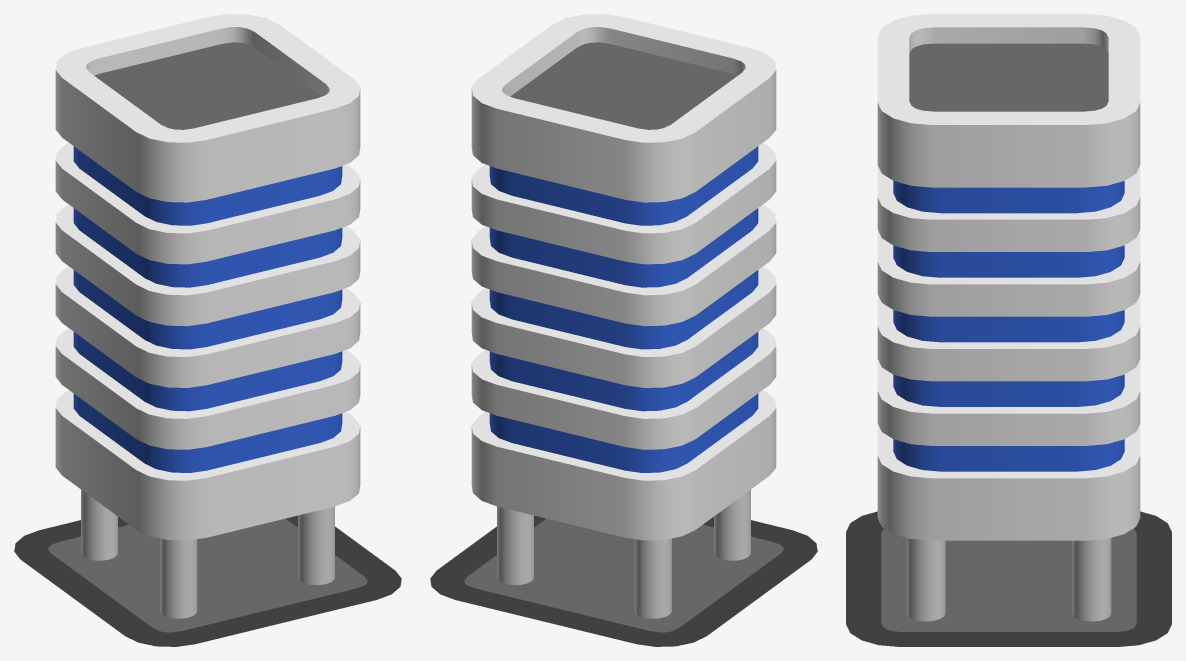
The model's file is building.glb.
3 views of the same model, side by side, from view 1: azimuth 30°, elevation 25°; view 2: azimuth 150°, elevation 25°; view 3: azimuth 270°, elevation 25° (orthographic). The views are drawn at different scales.
Parts seen in each view (by area): view 1: Cube.004, Plane.001, Cylinder; view 2: Cube.004, Plane.001, Cylinder; view 3: Cube.004, Plane.001, Cylinder.
Part boxes in pixels (box(x1,y1,x2,y2)): Cube.004: box(55, 14, 360, 540); Plane.001: box(14, 515, 401, 646); Cylinder: box(81, 489, 334, 618); Cube.004: box(471, 14, 776, 540); Plane.001: box(430, 515, 817, 646); Cylinder: box(497, 489, 750, 618); Cube.004: box(877, 14, 1140, 540); Plane.001: box(846, 511, 1171, 646); Cylinder: box(906, 538, 1111, 621).
Bounding box in the file's own units: 2.48 × 4.27 × 2.48.
